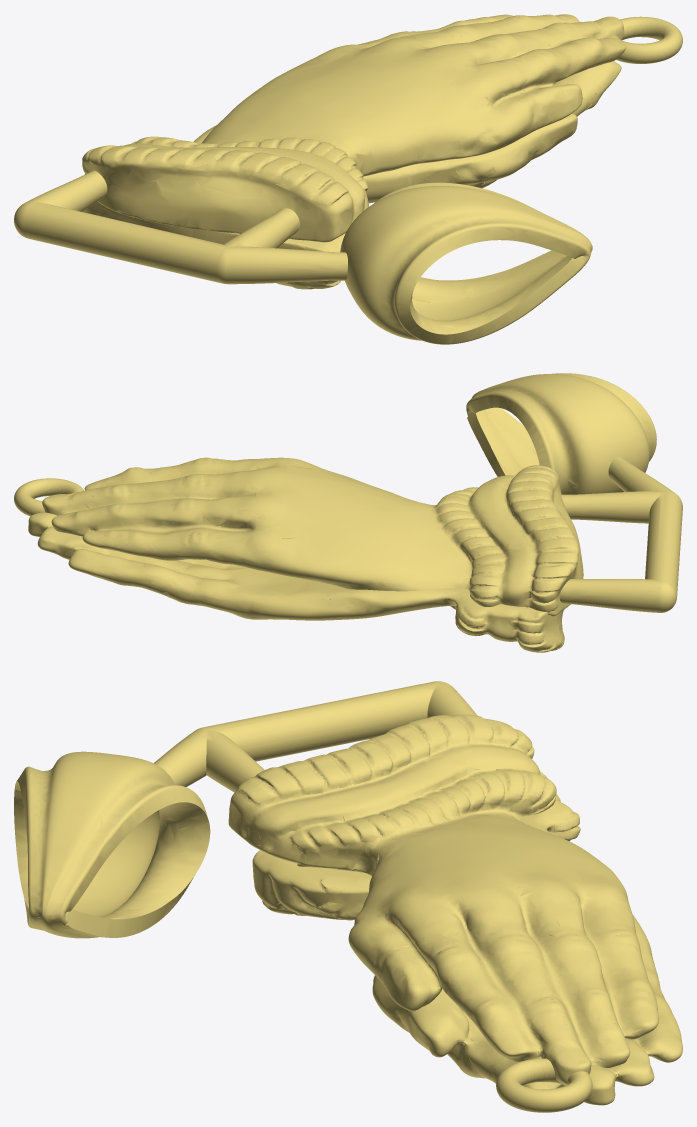
Rendered from eller.glb.
3 renders of one model, top to bottom at view 1: azimuth 30°, elevation 25°; view 2: azimuth 150°, elevation 25°; view 3: azimuth 270°, elevation 25°, orthographic. The views are drawn at different scales.
Parts seen in each view (by area): view 1: Renderer Node; view 2: Renderer Node; view 3: Renderer Node.
Part boxes in pixels (x1=…): Renderer Node: x1=14, y1=14, x2=682, y2=344; Renderer Node: x1=14, y1=373, x2=682, y2=652; Renderer Node: x1=14, y1=681, x2=682, y2=1112.
Bounding box in the file's own units: 32.06 × 6.6 × 22.87.
